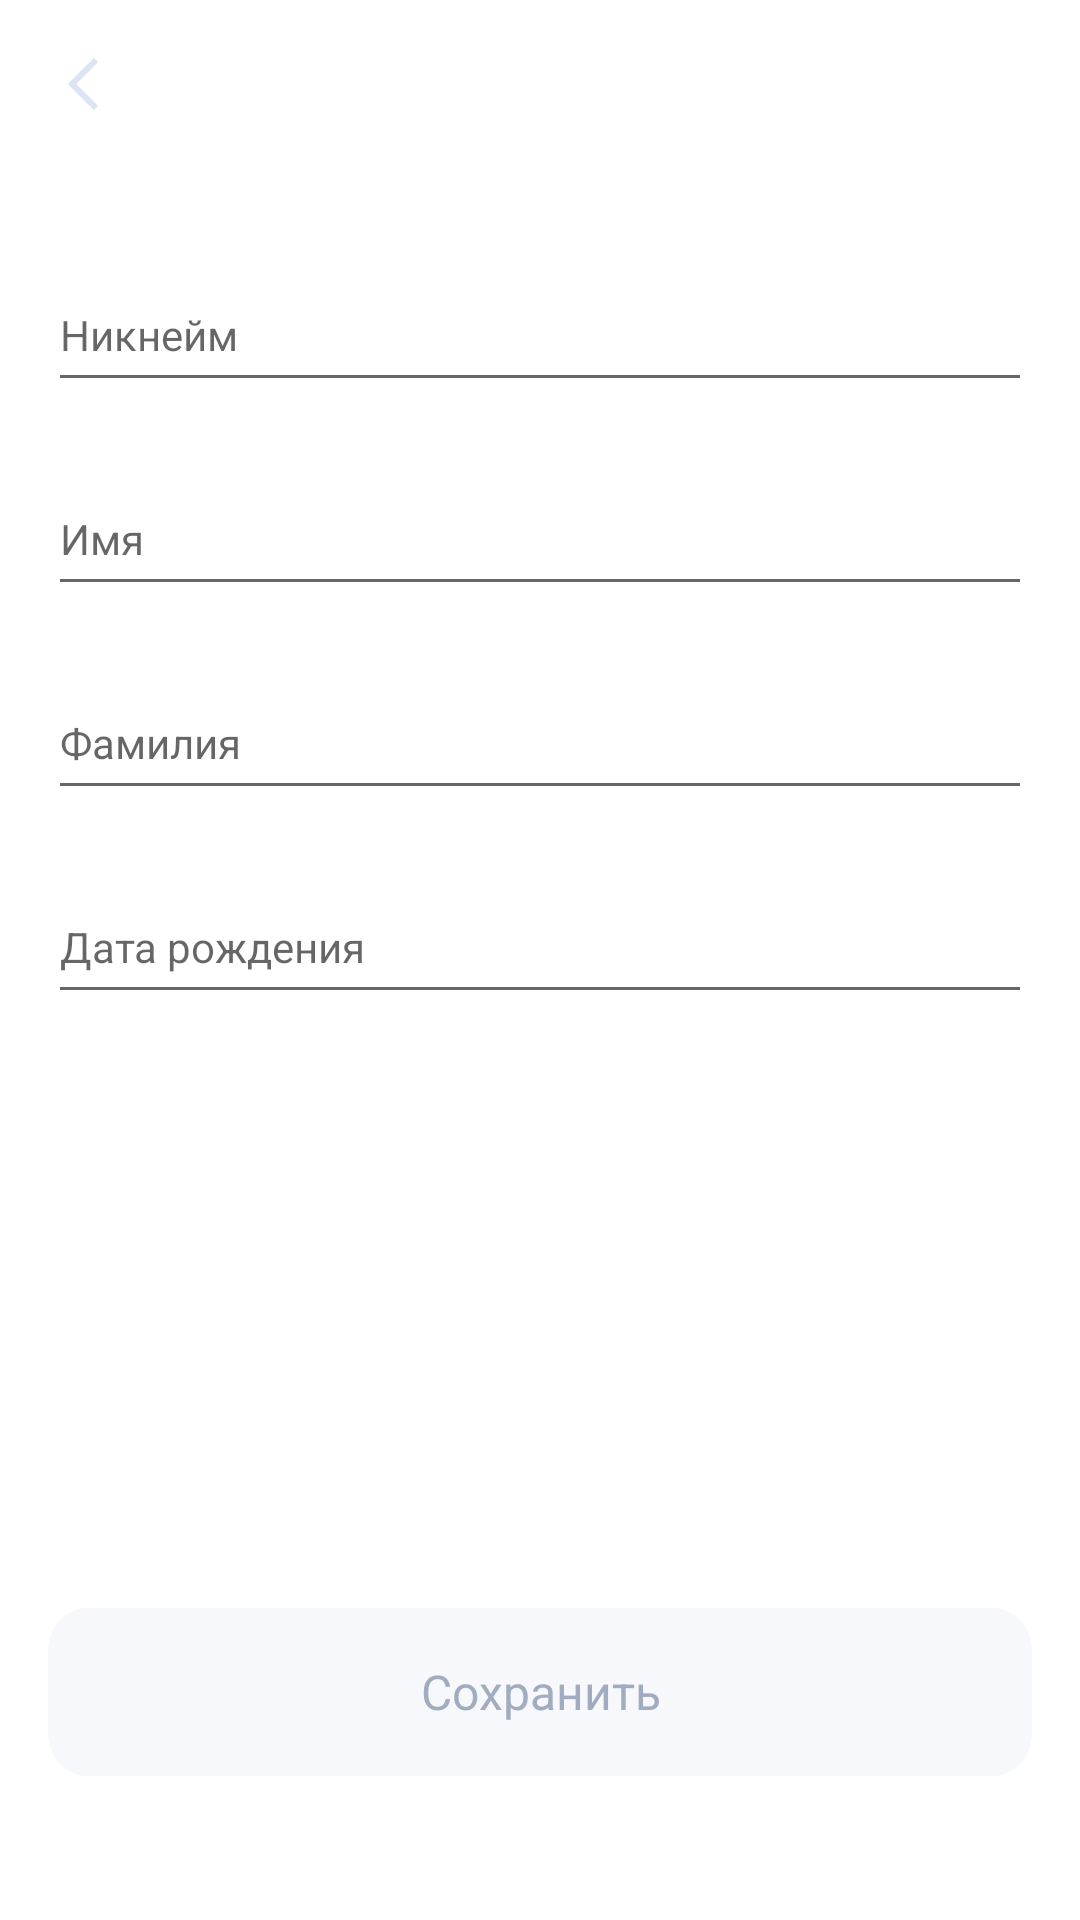

Where icons sit on this 1080px×1920px app screen, as bbox=[x1, y1, x2, y2]:
back arrow: bbox=[68, 59, 97, 109]
